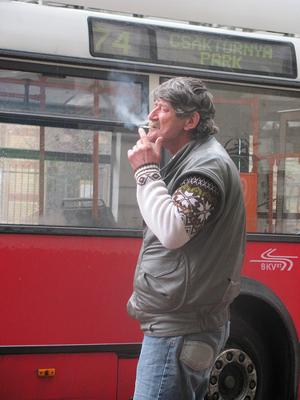person: (126, 77, 246, 398)
